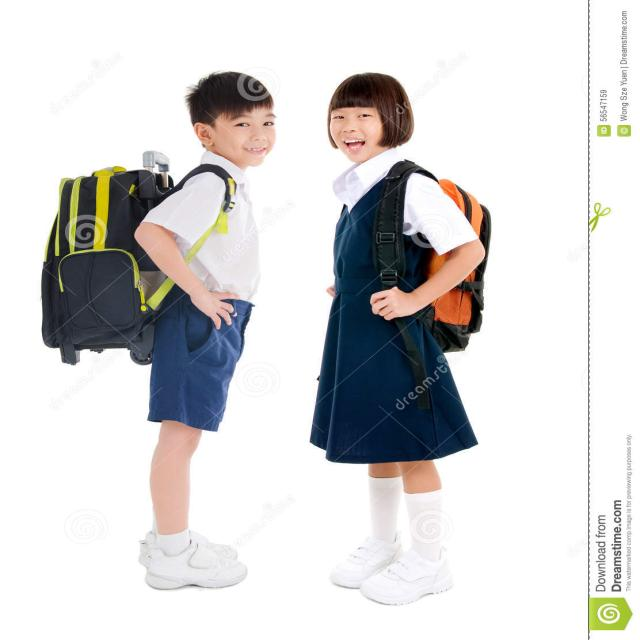child: (28, 66, 295, 612), (298, 64, 565, 610)
